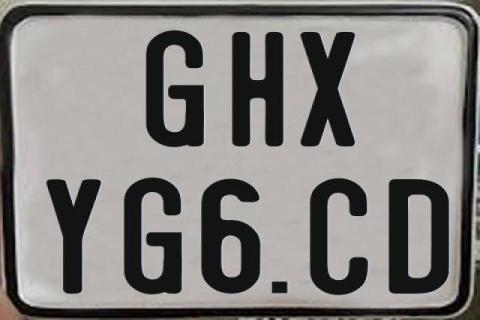0: (198, 178, 258, 296)
C: (309, 178, 372, 296)
D: (388, 178, 453, 296)
G: (123, 177, 186, 295), (144, 28, 203, 145)
H: (231, 31, 282, 149)
X: (299, 30, 360, 150)
Y: (44, 179, 104, 297)
